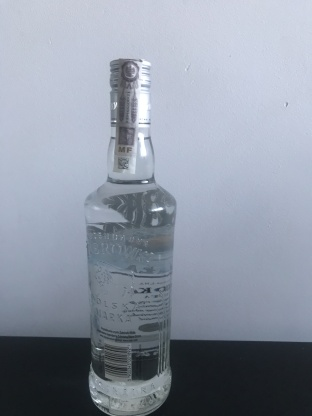nakretka: (107, 53, 154, 130)
